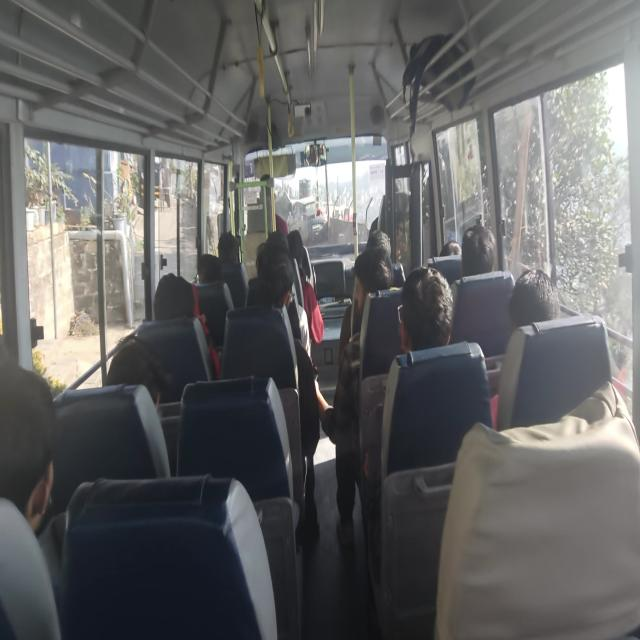person: (1, 358, 63, 529), (396, 256, 451, 353), (109, 324, 170, 409), (504, 265, 562, 337), (153, 274, 203, 338), (254, 244, 295, 316), (464, 228, 499, 291), (350, 255, 396, 302), (432, 217, 467, 257), (191, 250, 225, 288), (286, 220, 309, 268), (218, 227, 238, 272), (253, 164, 279, 198), (375, 174, 408, 200), (264, 218, 288, 251), (361, 227, 394, 251)
